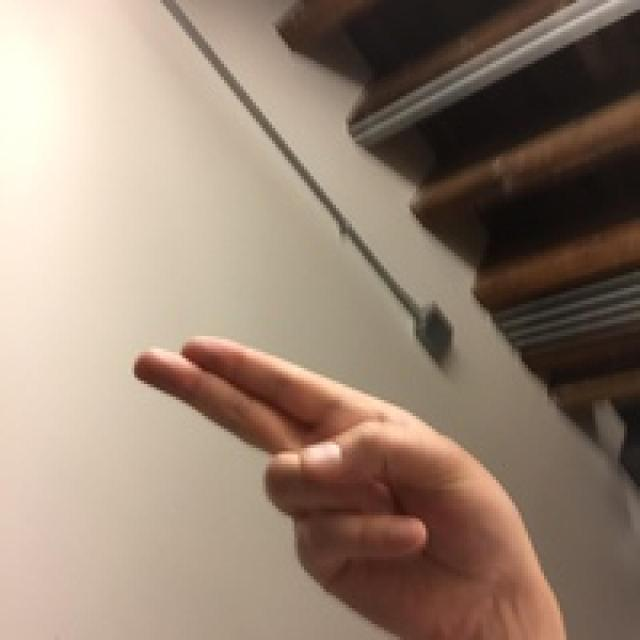H: (97, 266, 613, 608)
